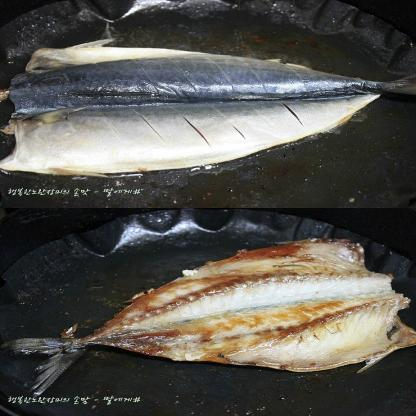Peixe: (0, 218, 416, 407), (0, 32, 416, 172)
